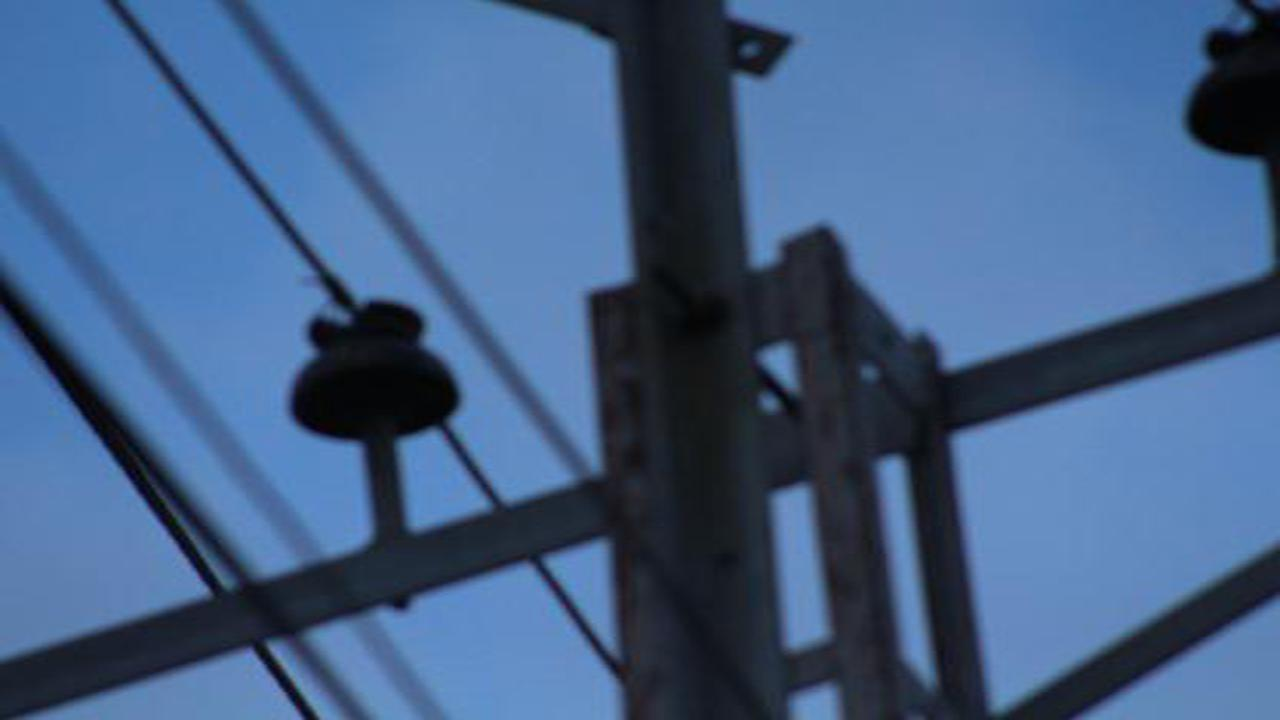insulator_pin: (285, 301, 469, 448)
